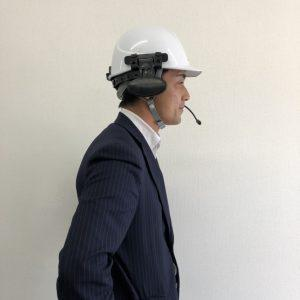helmet: (109, 24, 202, 80)
